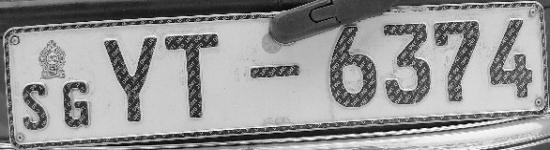-: (245, 60, 301, 85)
3: (382, 17, 432, 110)
4: (486, 13, 538, 104)
6: (326, 21, 384, 114)
7: (432, 13, 488, 110)
G: (59, 79, 96, 132)
S: (16, 79, 53, 134)
T: (160, 29, 231, 126)
Y: (100, 34, 162, 131)
